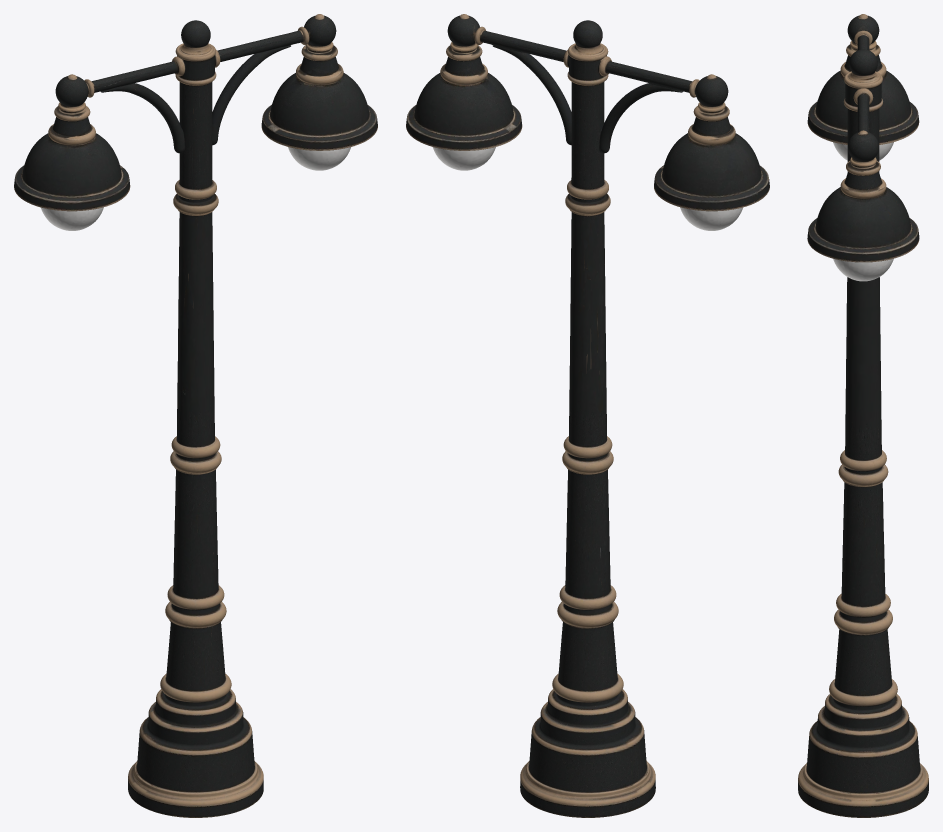
Rendered from Farola_DKB.glb.
3 renders of one model, left to right at view 1: azimuth 30°, elevation 25°; view 2: azimuth 150°, elevation 25°; view 3: azimuth 270°, elevation 25°, orthographic. The views are drawn at different scales.
Bounding box in the file's own units: 0.9032 × 1.9 × 0.3048.
Materials: 1 (1 with a texture image).
